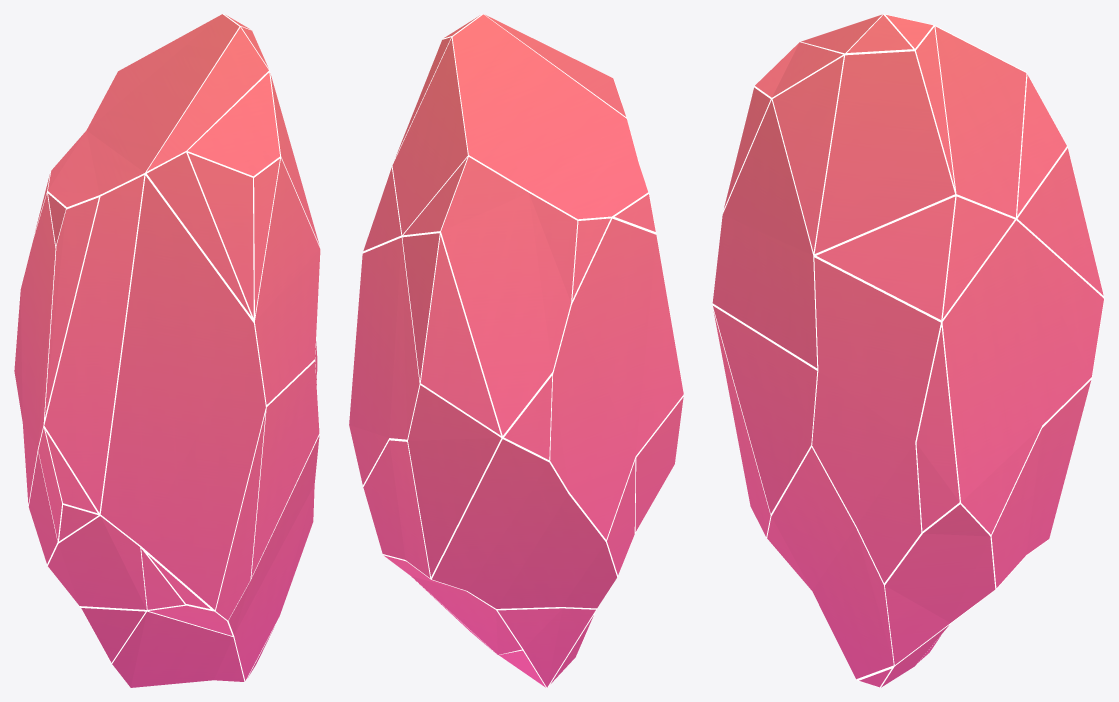
File: Ruby.glb
3 renders of one model, left to right at view 1: azimuth 30°, elevation 25°; view 2: azimuth 150°, elevation 25°; view 3: azimuth 270°, elevation 25°, orthographic. The views are drawn at different scales.
Parts seen in each view (by area): view 1: Ruby; view 2: Ruby; view 3: Ruby.
Part boxes in pixels (x1,y1,x2,y2): Ruby: (14,14,320,687); Ruby: (349,14,683,687); Ruby: (712,14,1104,687).
Bounding box in the file's own units: 0.4046 × 0.8379 × 0.4362.
2 materials, 1 textured.
